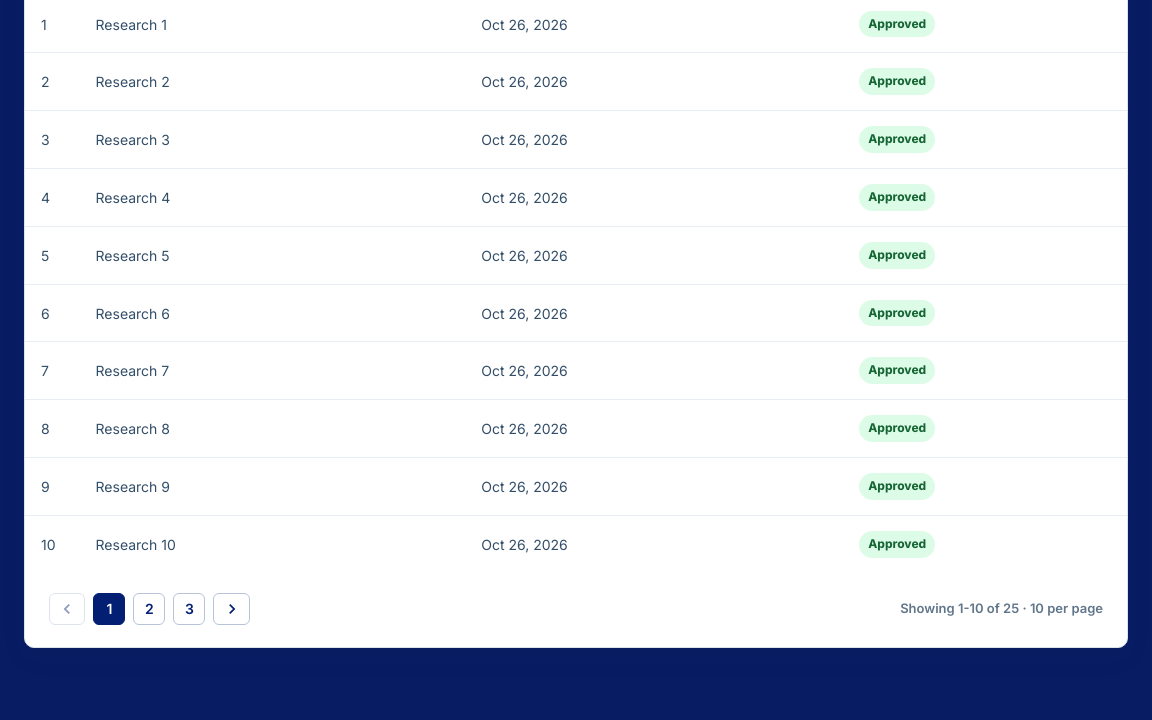
Test: clamps the current page when refreshed data has fewer records
The image size is (1152, 720).
(page scrolled)
Click the button named "Next page" at (232, 609), box [213, 593, 250, 625]
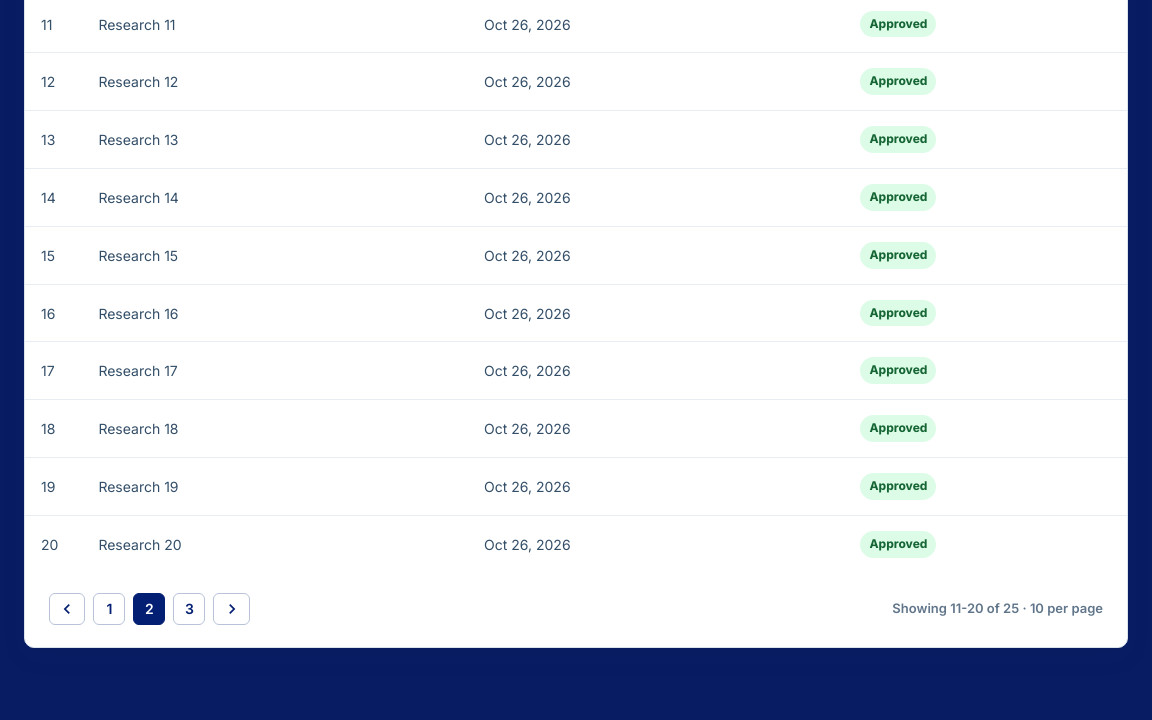
Click the button named "Next page" at (232, 609), box [213, 593, 250, 625]
(page scrolled)
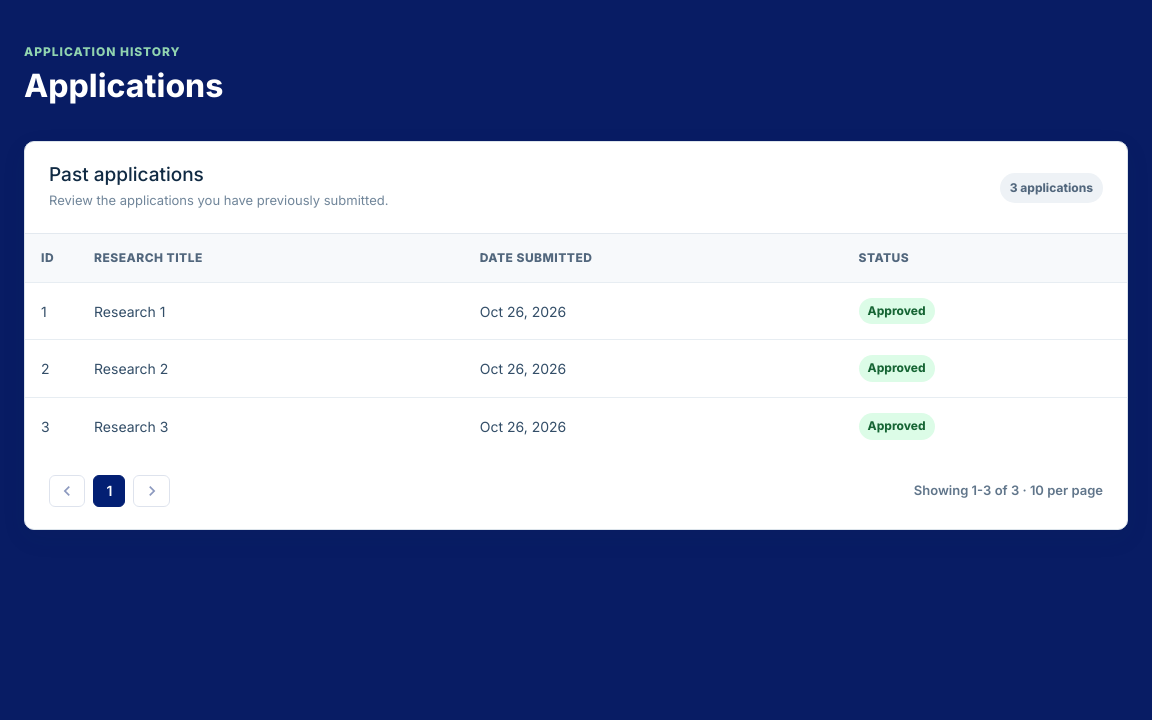
Check: the text "Showing 1-3 of 3" is shown, box [914, 481, 1103, 501]
Check: the button named "Previous page" is disabled, box [49, 475, 85, 507]
Check: the button named "Next page" is disabled, box [133, 475, 170, 507]
